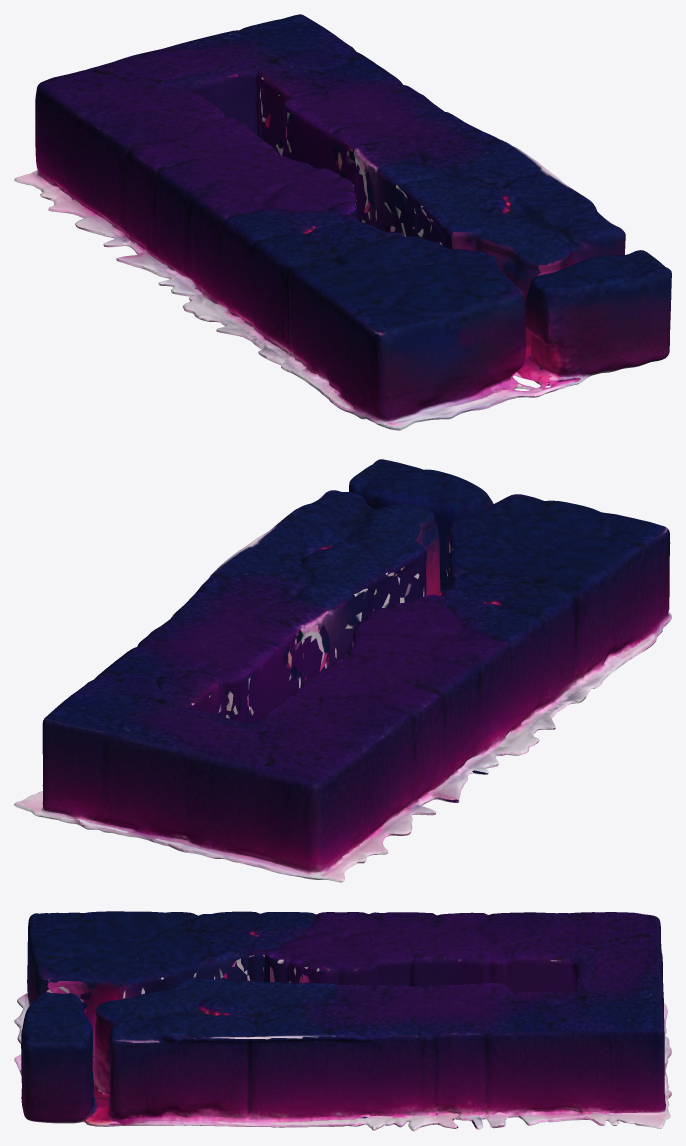
Rendered from approach-stone-1-generated-2026-05-17T18-16-39-754Z.high.glb.
The picture shows the model from 3 angles, top to bottom: view 1: azimuth 30°, elevation 25°; view 2: azimuth 150°, elevation 25°; view 3: azimuth 270°, elevation 25°; orthographic projection. The views are drawn at different scales.
Visible parts, largest first — view 1: temp_mesh.ply; view 2: temp_mesh.ply; view 3: temp_mesh.ply.
Boxes of the visible parts, bbox=[...] form: temp_mesh.ply: bbox=[14, 14, 671, 430]; temp_mesh.ply: bbox=[14, 459, 671, 882]; temp_mesh.ply: bbox=[14, 911, 671, 1131].
Bounding box in the file's own units: 1.06 × 0.3049 × 1.97.
1 material, 1 textured.
